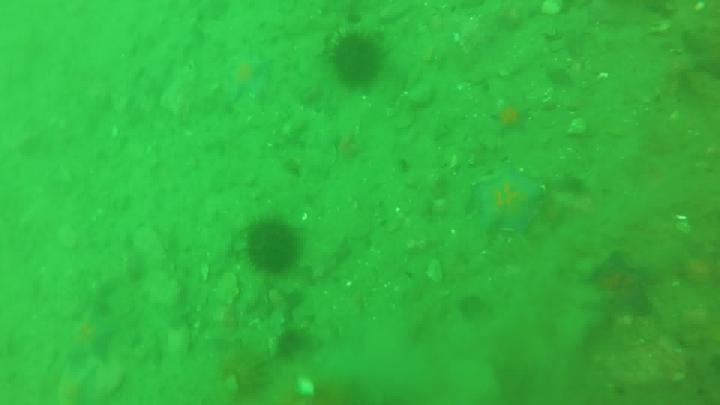echinus: (338, 29, 385, 91), (245, 219, 294, 273)
starfish: (474, 165, 545, 233), (592, 256, 653, 320), (221, 51, 271, 104), (491, 98, 535, 133)
